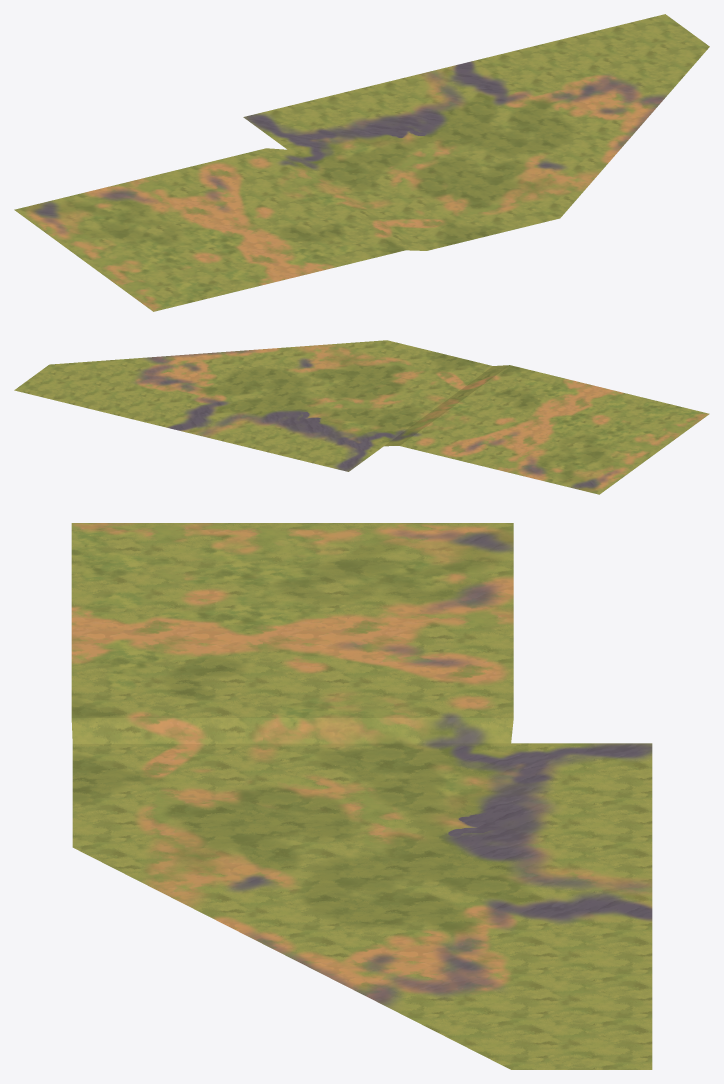
Rendered from mod_groundplane.fbx.
3 renders of one model, top to bottom at view 1: azimuth 30°, elevation 25°; view 2: azimuth 150°, elevation 25°; view 3: azimuth 270°, elevation 25°, orthographic. The views are drawn at different scales.
Visible parts, largest first — view 1: mod_groundplane; view 2: mod_groundplane; view 3: mod_groundplane.
Part boxes in pixels (x1=…): mod_groundplane: x1=14, y1=14, x2=709, y2=311; mod_groundplane: x1=14, y1=340, x2=709, y2=494; mod_groundplane: x1=71, y1=523, x2=652, y2=1069.
Bounding box in the file's own units: 2725 × 22.9 × 1244.
1 material, 1 textured.
